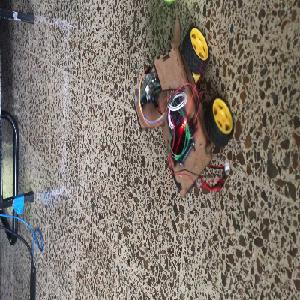Robot: (132, 20, 233, 198)
